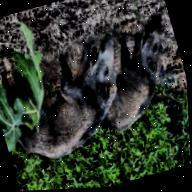boar: (0, 22, 147, 179), (61, 0, 191, 165)
